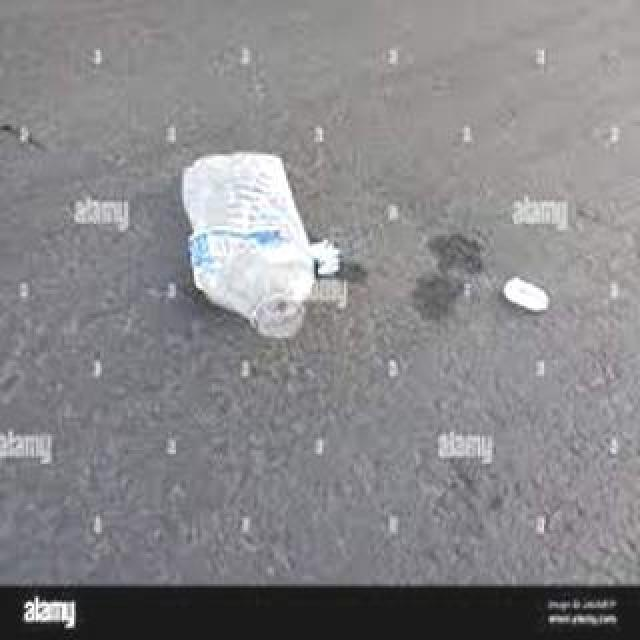Pet_Bottle: (175, 150, 321, 340)
